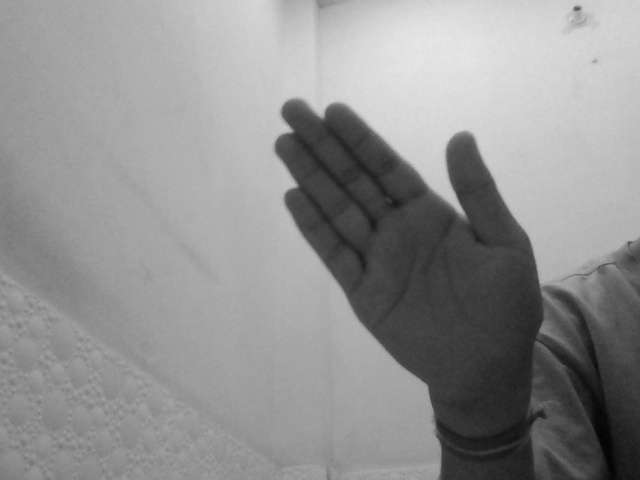Hello: (271, 94, 546, 412)
